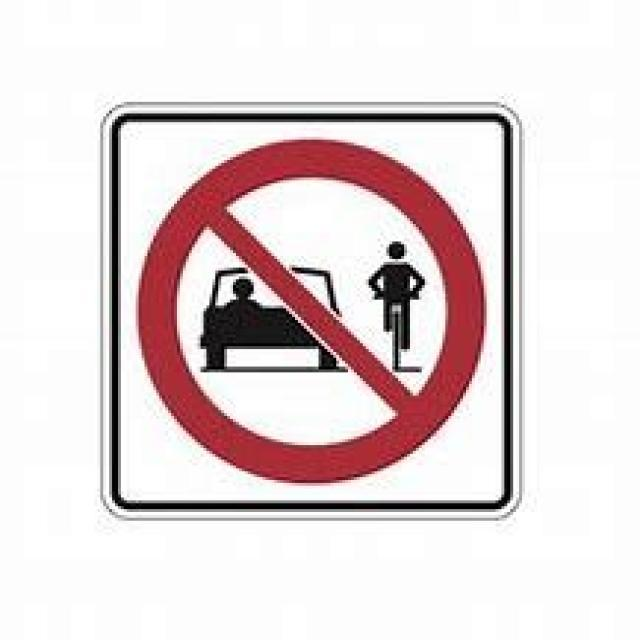all motor vehicle prohibited: (136, 134, 486, 485)
